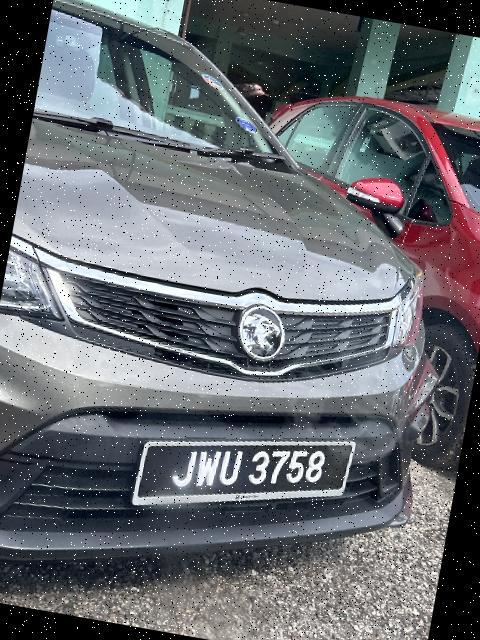JWU3758: (131, 403, 359, 545)
License_Plate: (131, 403, 359, 545)
car: (1, 1, 480, 640)
